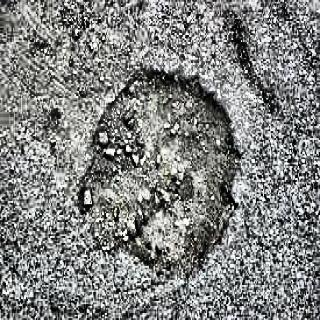pothole: (80, 42, 246, 305)
